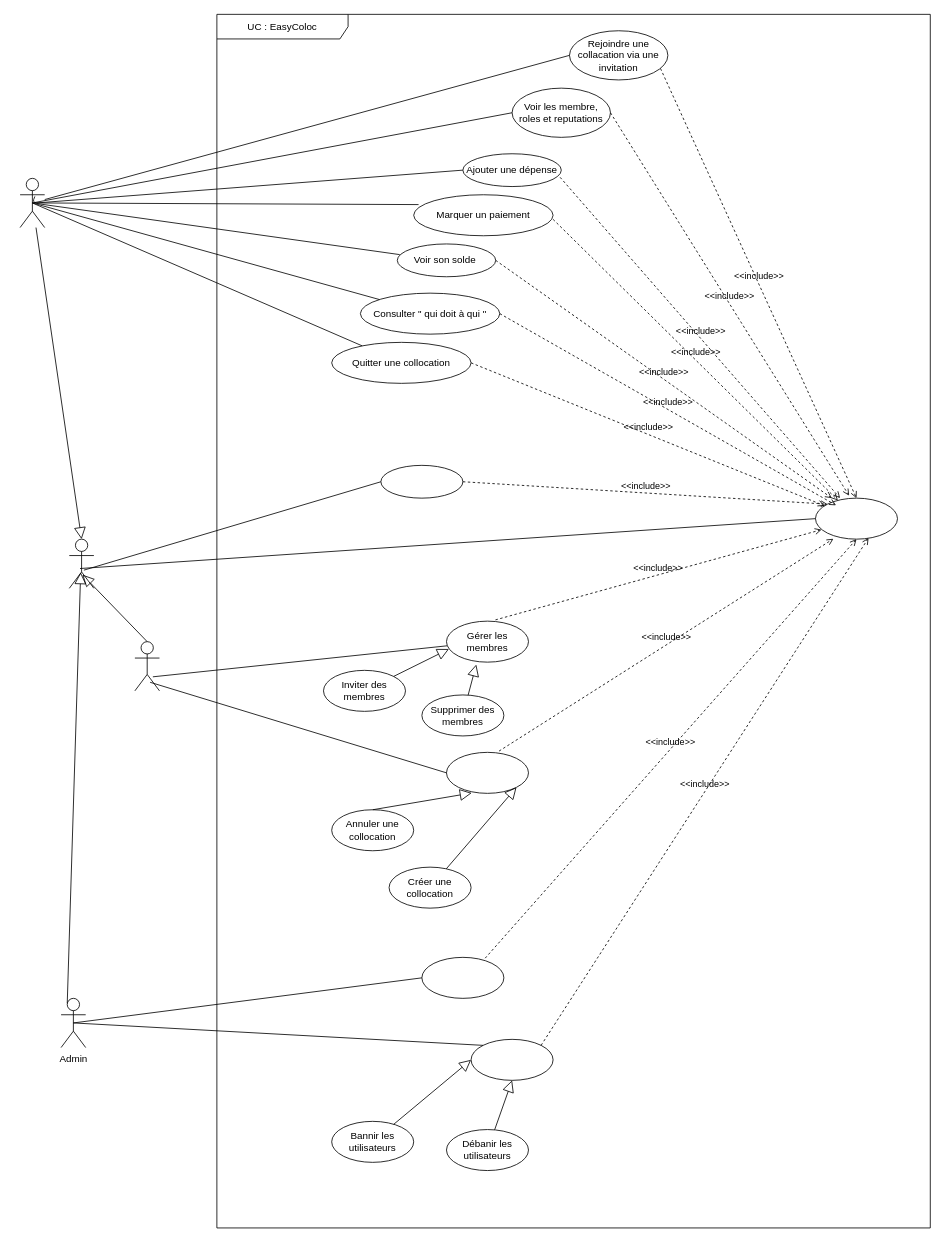
Image size: 945x1242. Some labels were removed from this diagram. The box of each missing label's shape, as (x1, y1, x2, y2) in pixels:
Gérer le profil: (380, 465, 463, 498)
Gérer les collocations: (446, 752, 528, 793)
Gérer les utilisateurs: (470, 1039, 553, 1080)
Member: (19, 178, 45, 228)
Owner: (134, 641, 159, 691)
Se connecter: (815, 497, 897, 539)
User: (68, 538, 94, 588)
Voir le statistiques: (421, 957, 504, 998)
